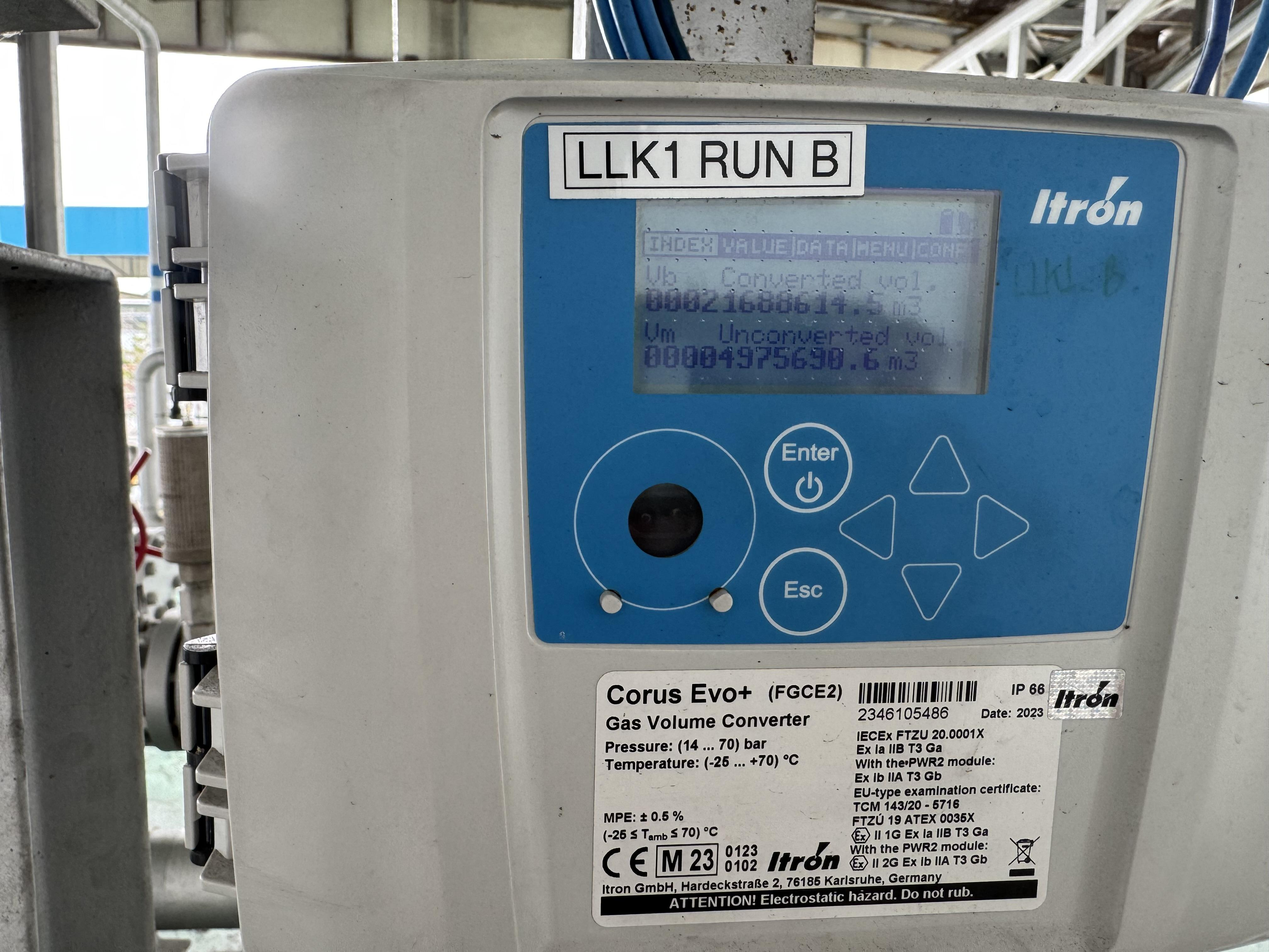digital_screen: (634, 186, 1000, 394)
